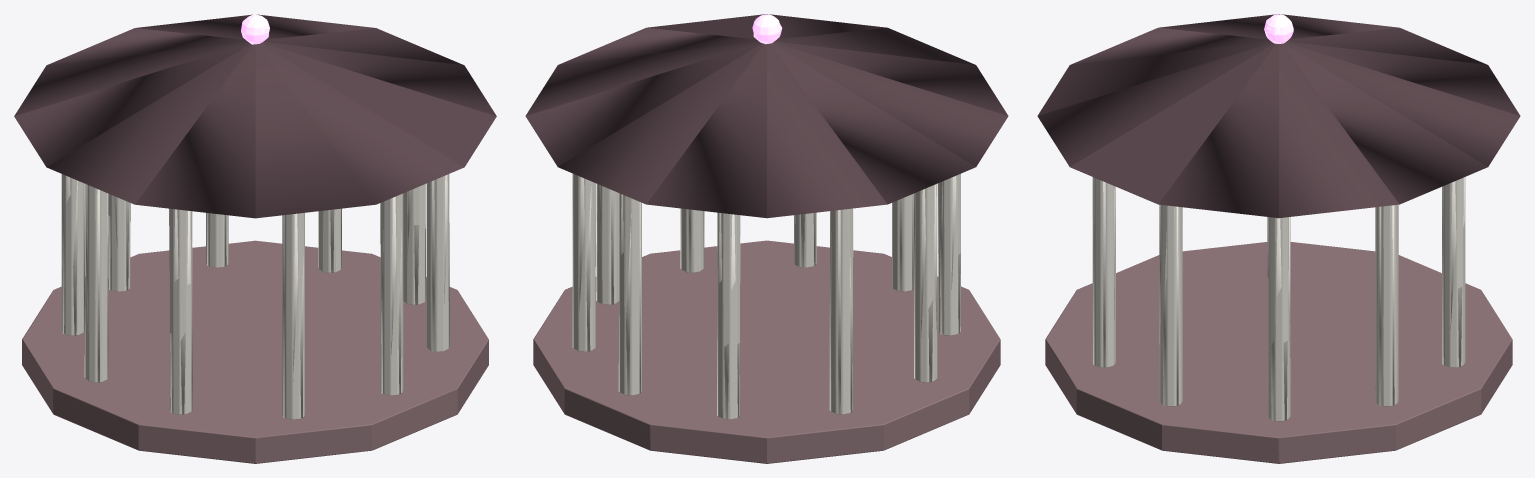
The model's file is SM_Neroberg_Monopteros.fbx.
3 views of the same model, side by side, from view 1: azimuth 30°, elevation 25°; view 2: azimuth 150°, elevation 25°; view 3: azimuth 270°, elevation 25° (orthographic).
Visible parts, largest first — view 1: LOD0_SM_Neroberg_Monopteros, LOD3_SM_Neroberg_Monopteros, LOD1_SM_Neroberg_Monopteros, LOD2_SM_Neroberg_Monopteros; view 2: LOD0_SM_Neroberg_Monopteros, LOD3_SM_Neroberg_Monopteros, LOD1_SM_Neroberg_Monopteros, LOD2_SM_Neroberg_Monopteros; view 3: LOD0_SM_Neroberg_Monopteros, LOD3_SM_Neroberg_Monopteros, LOD1_SM_Neroberg_Monopteros, LOD2_SM_Neroberg_Monopteros.
Part boxes in pixels (x1,y1,x2,y2): LOD0_SM_Neroberg_Monopteros: (14,14,496,463); LOD3_SM_Neroberg_Monopteros: (62,14,449,434); LOD1_SM_Neroberg_Monopteros: (22,16,488,450); LOD2_SM_Neroberg_Monopteros: (22,29,488,463); LOD0_SM_Neroberg_Monopteros: (525,14,1008,463); LOD3_SM_Neroberg_Monopteros: (572,14,960,419); LOD1_SM_Neroberg_Monopteros: (534,17,999,450); LOD2_SM_Neroberg_Monopteros: (533,27,999,463); LOD0_SM_Neroberg_Monopteros: (1037,14,1520,463); LOD3_SM_Neroberg_Monopteros: (1046,14,1464,463); LOD1_SM_Neroberg_Monopteros: (1046,16,1512,463); LOD2_SM_Neroberg_Monopteros: (1045,30,1512,463).
Size of the model in its own units: 5.79 by 4.63 by 5.79.
